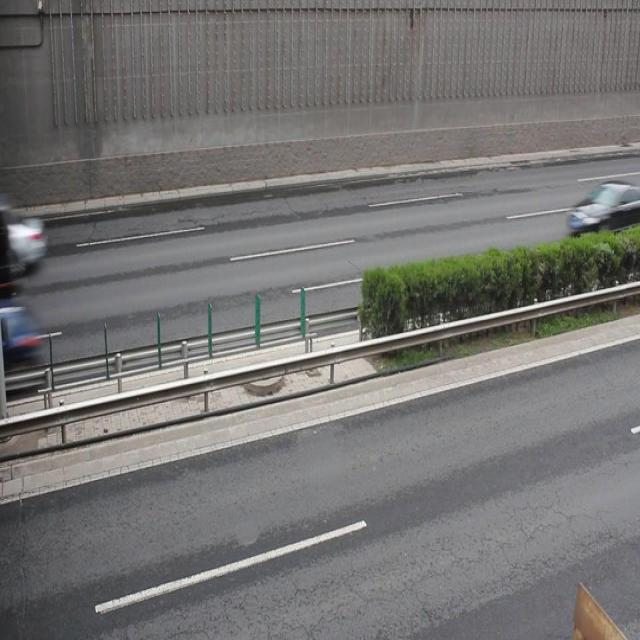car: (566, 179, 640, 245)
